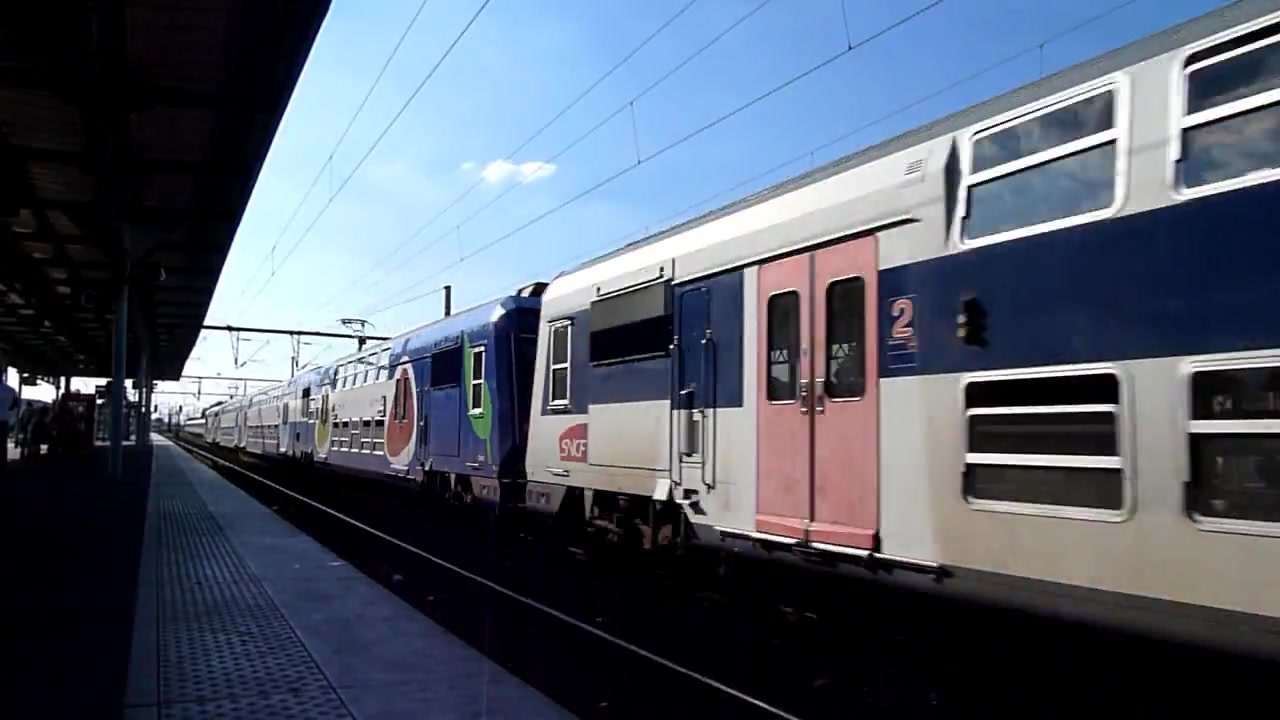train: (201, 1, 1280, 660)
